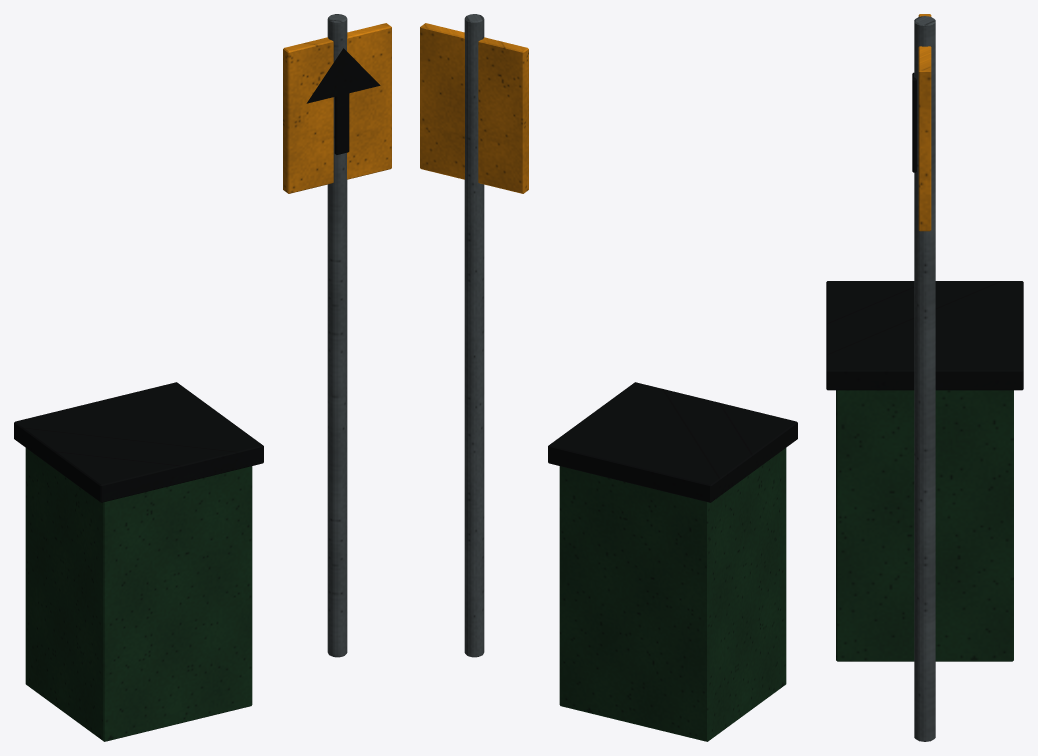
Rendered from PROP-9AB85BFF1770_lod1.glb.
3 views of the same model, side by side, from view 1: azimuth 30°, elevation 25°; view 2: azimuth 150°, elevation 25°; view 3: azimuth 270°, elevation 25° (orthographic). The views are drawn at different scales.
Parts seen in each view (by area): view 1: waste_container.001, bin_lid.001, sign_plate.002, sign_post.002, direction_symbol.002, symbol_stem.002; view 2: waste_container.001, bin_lid.001, sign_plate.002, sign_post.002; view 3: waste_container.001, bin_lid.001, sign_post.002, sign_plate.002, symbol_stem.002.
Part boxes in pixels (x1=…): waste_container.001: x1=25, y1=448, x2=252, y2=741; bin_lid.001: x1=14, y1=382, x2=263, y2=502; sign_plate.002: x1=283, y1=23, x2=391, y2=193; sign_post.002: x1=327, y1=14, x2=347, y2=657; direction_symbol.002: x1=306, y1=48, x2=380, y2=103; symbol_stem.002: x1=334, y1=93, x2=349, y2=154; waste_container.001: x1=559, y1=448, x2=786, y2=741; bin_lid.001: x1=548, y1=382, x2=797, y2=502; sign_plate.002: x1=420, y1=23, x2=528, y2=193; sign_post.002: x1=464, y1=14, x2=484, y2=657; waste_container.001: x1=836, y1=390, x2=1013, y2=661; bin_lid.001: x1=826, y1=281, x2=1023, y2=390; sign_post.002: x1=914, y1=16, x2=935, y2=741; sign_plate.002: x1=918, y1=14, x2=931, y2=231; symbol_stem.002: x1=912, y1=72, x2=916, y2=172.
Size of the model in its own units: 1.34 by 2.45 by 0.61.
Materials: 4 (4 with a texture image).
